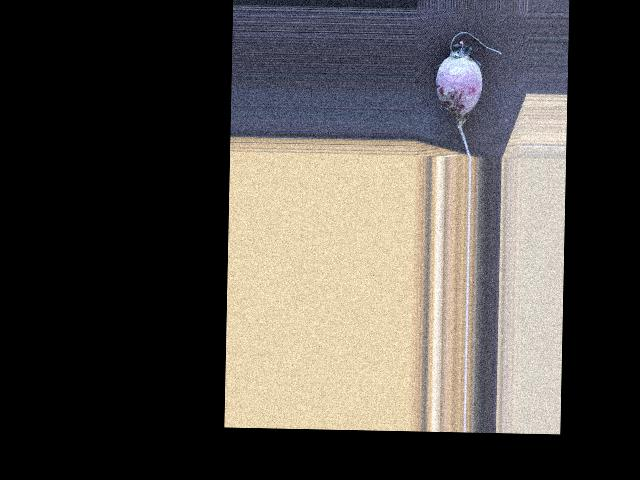beet: (433, 31, 502, 159)
